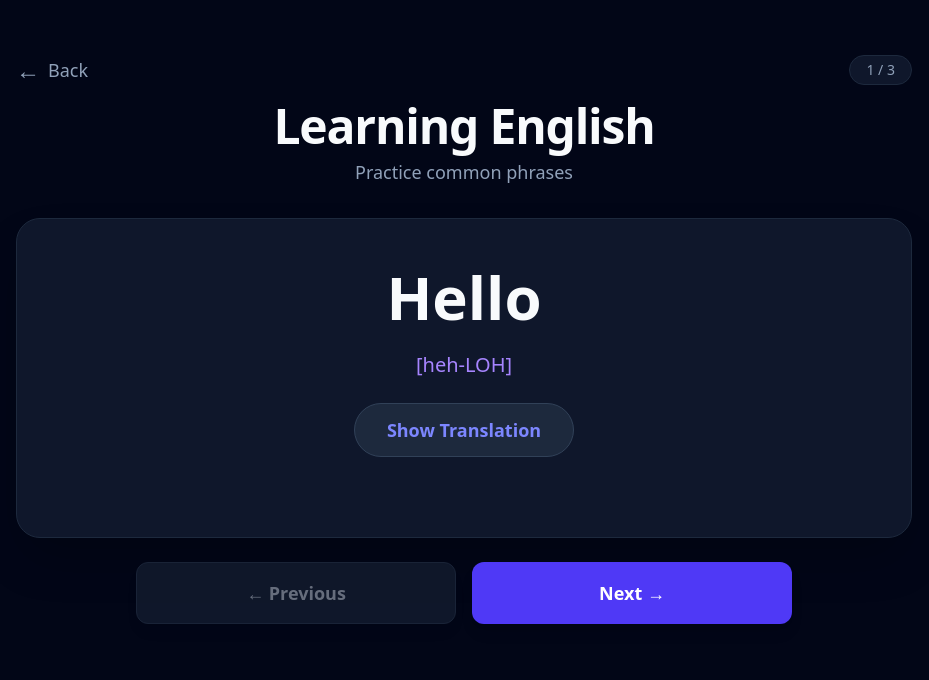
Learning › hides translation when hide button is clicked
The width and height of the screenshot is (929, 680).
Note: Show translation
Click the button labelled "Show Translation" at (464, 430), box [354,403,574,457]
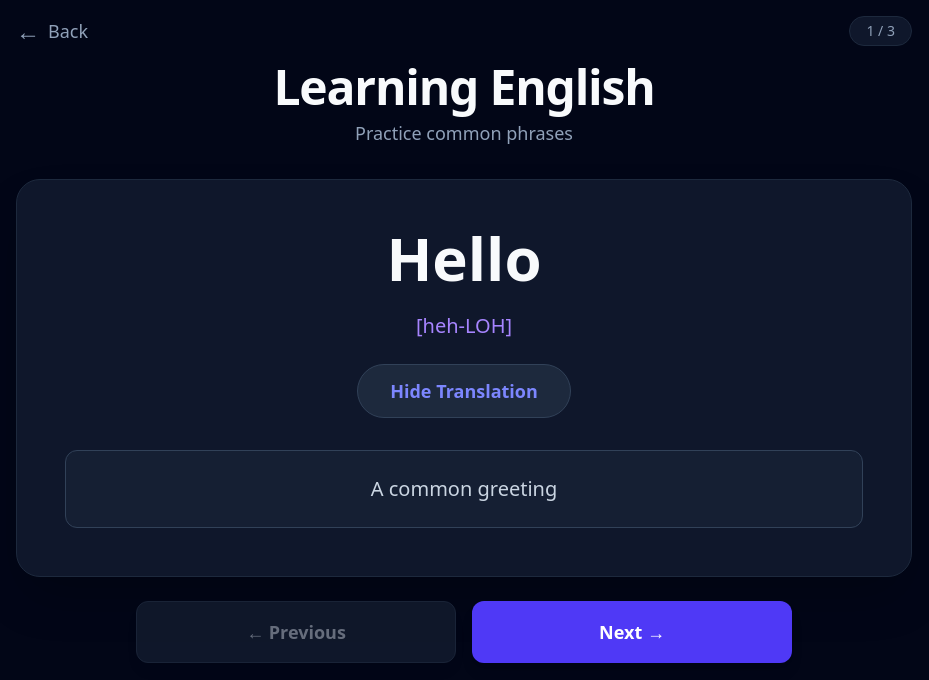
Expected: the text "A common greeting" is shown, [371,475,557,502]
Note: Hide translation
Click the button labelled "Hide Translation" at (464, 391), box [357,364,571,418]
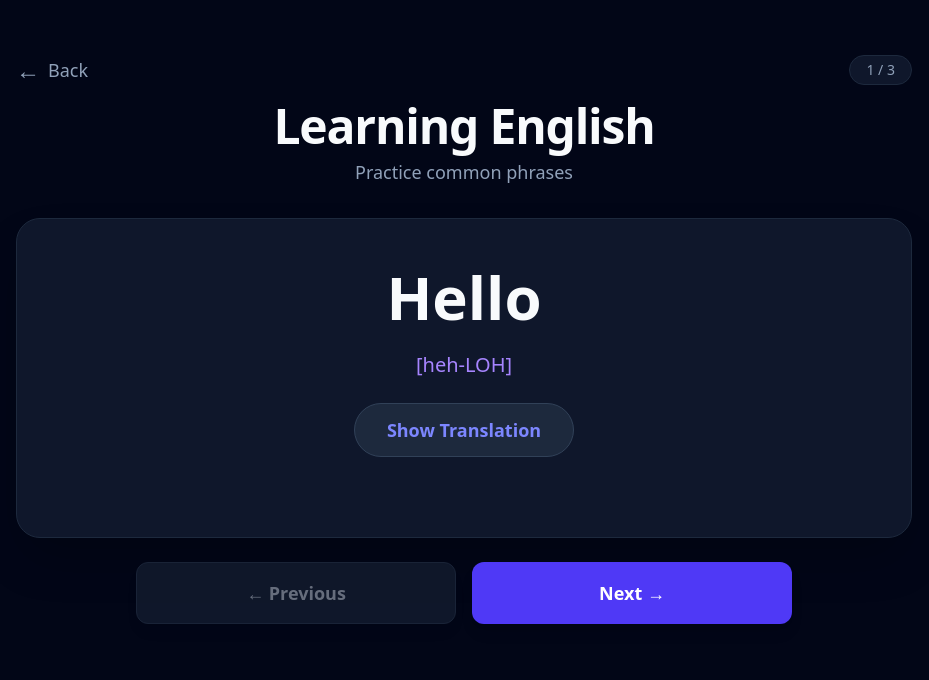
Expected: the text "A common greeting" is gone
